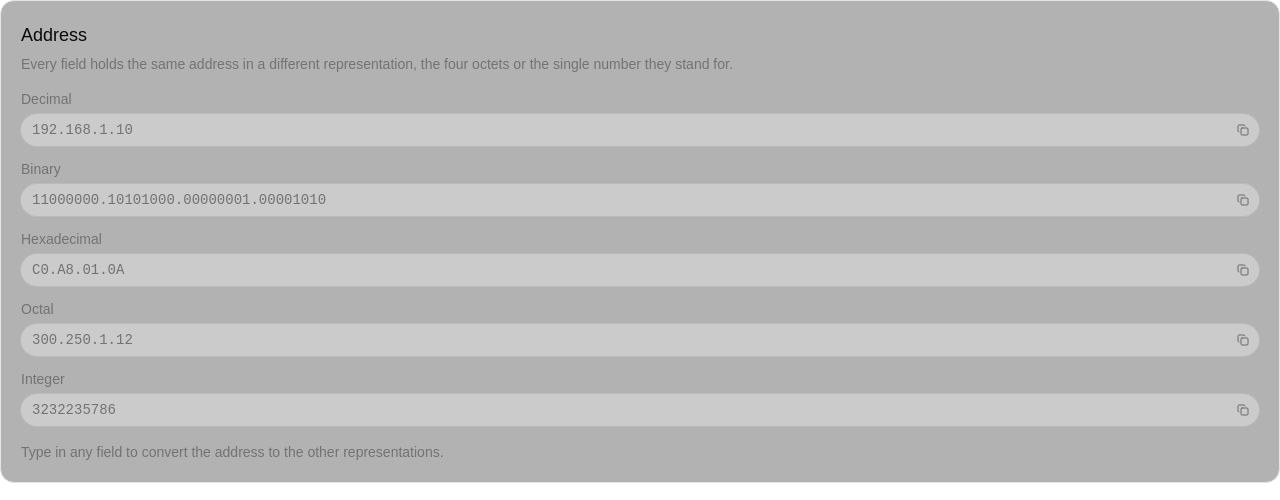
Scenario: AddressSection › converts a typed integer into the dotted notations
Type "134744072" into the field labelled "Integer".
click(626, 410); type("134744072")  # box [22,394,1231,426]
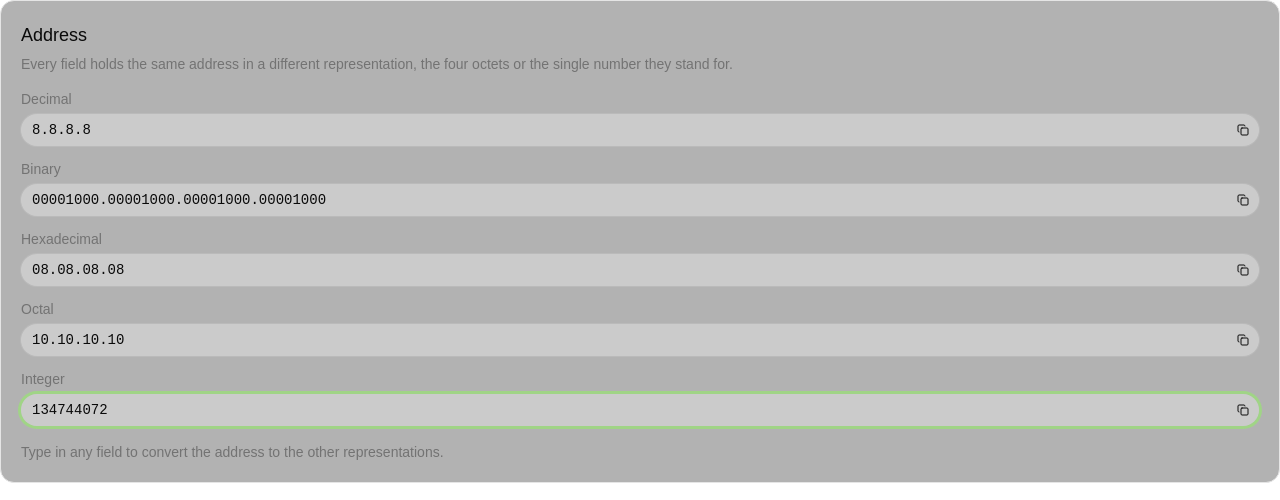
expect the field labelled "Decimal" holds "8.8.8.8": met, box [22,114,1231,146]
expect the field labelled "Hexadecimal" holds "08.08.08.08": met, box [22,254,1231,286]
expect the field labelled "Octal" holds "10.10.10.10": met, box [22,324,1231,356]
